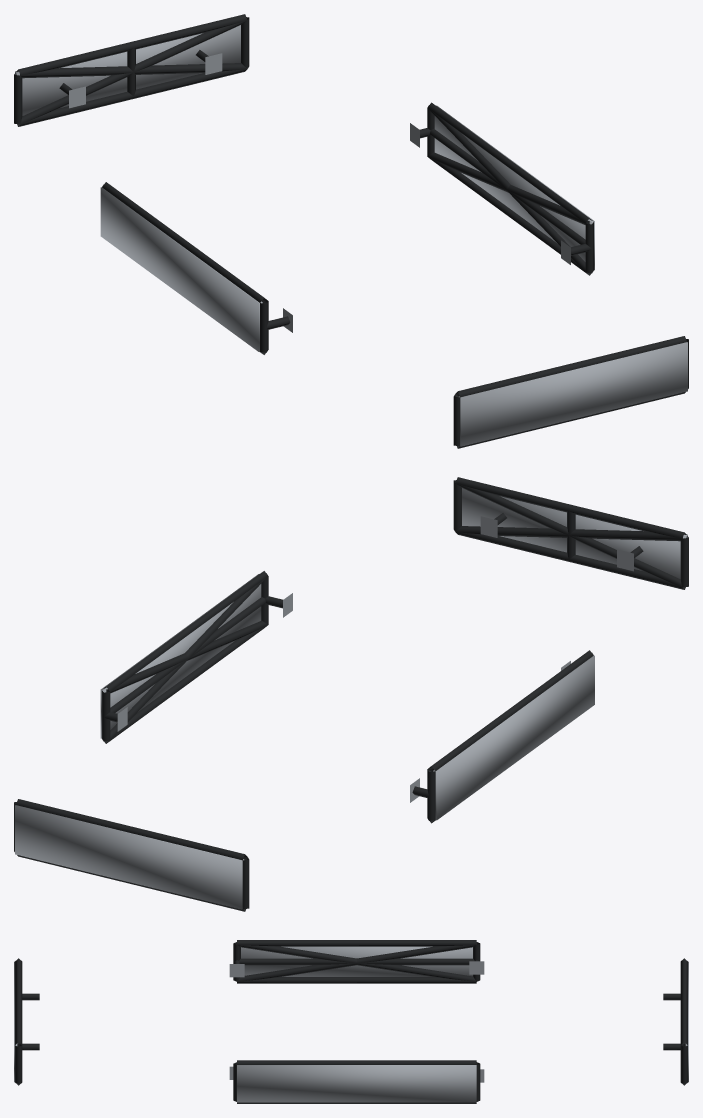
File: ostwerk_lastro_protecao.glb
The picture shows the model from 3 angles, top to bottom: view 1: azimuth 30°, elevation 25°; view 2: azimuth 150°, elevation 25°; view 3: azimuth 270°, elevation 25°; orthographic projection. The views are drawn at different scales.
Visible parts, largest first — view 1: Protection_front_Level3_Details, Protection_left_Level3_Details, Protection_rear_Level1_Details, Protection_rear_Level3_Details, Protection_right_Level1_Details, Protection_rear_Level2_Details, Protection_right_Level2_Details, Protection_right_Level3_Details, Protection_front_Level1_Details, Protection_left_Level1_Details; view 2: Protection_rear_Level3_Details, Protection_left_Level3_Details, Protection_front_Level1_Details, Protection_front_Level3_Details, Protection_right_Level1_Details, Protection_front_Level2_Details, Protection_right_Level2_Details, Protection_right_Level3_Details, Protection_rear_Level1_Details, Protection_left_Level1_Details; view 3: Protection_right_Level3_Details, Protection_left_Level2_Details, Protection_left_Level1_Details, Protection_left_Level3_Details, Protection_right_Level1_Details, Protection_rear_Level1_Details, Protection_front_Level1_Details.
Part boxes in pixels (bbox=[...]): Protection_front_Level3_Details: bbox=[458, 342, 687, 446]; Protection_left_Level3_Details: bbox=[100, 187, 262, 351]; Protection_rear_Level1_Details: bbox=[14, 14, 249, 126]; Protection_rear_Level3_Details: bbox=[15, 25, 240, 115]; Protection_right_Level1_Details: bbox=[410, 102, 593, 275]; Protection_rear_Level2_Details: bbox=[16, 20, 246, 125]; Protection_right_Level2_Details: bbox=[427, 108, 592, 275]; Protection_right_Level3_Details: bbox=[434, 105, 594, 270]; Protection_front_Level1_Details: bbox=[453, 336, 688, 448]; Protection_left_Level1_Details: bbox=[102, 182, 292, 354]; Protection_rear_Level3_Details: bbox=[15, 805, 244, 909]; Protection_left_Level3_Details: bbox=[433, 655, 594, 820]; Protection_front_Level1_Details: bbox=[453, 477, 688, 589]; Protection_front_Level3_Details: bbox=[462, 488, 687, 578]; Protection_right_Level1_Details: bbox=[102, 571, 292, 743]; Protection_front_Level2_Details: bbox=[456, 483, 686, 588]; Protection_right_Level2_Details: bbox=[102, 577, 267, 743]; Protection_right_Level3_Details: bbox=[100, 574, 261, 738]; Protection_rear_Level1_Details: bbox=[14, 799, 249, 911]; Protection_left_Level1_Details: bbox=[410, 650, 593, 823]; Protection_right_Level3_Details: bbox=[237, 1065, 476, 1102]; Protection_left_Level2_Details: bbox=[237, 943, 476, 981]; Protection_left_Level1_Details: bbox=[229, 940, 484, 983]; Protection_left_Level3_Details: bbox=[241, 946, 472, 976]; Protection_right_Level1_Details: bbox=[229, 1060, 484, 1103]; Protection_rear_Level1_Details: bbox=[663, 958, 687, 1085]; Protection_front_Level1_Details: bbox=[15, 958, 39, 1085].
Size of the model in its own units: 2.16 by 0.354 by 4.96.
Materials: 1 (1 with a texture image).
